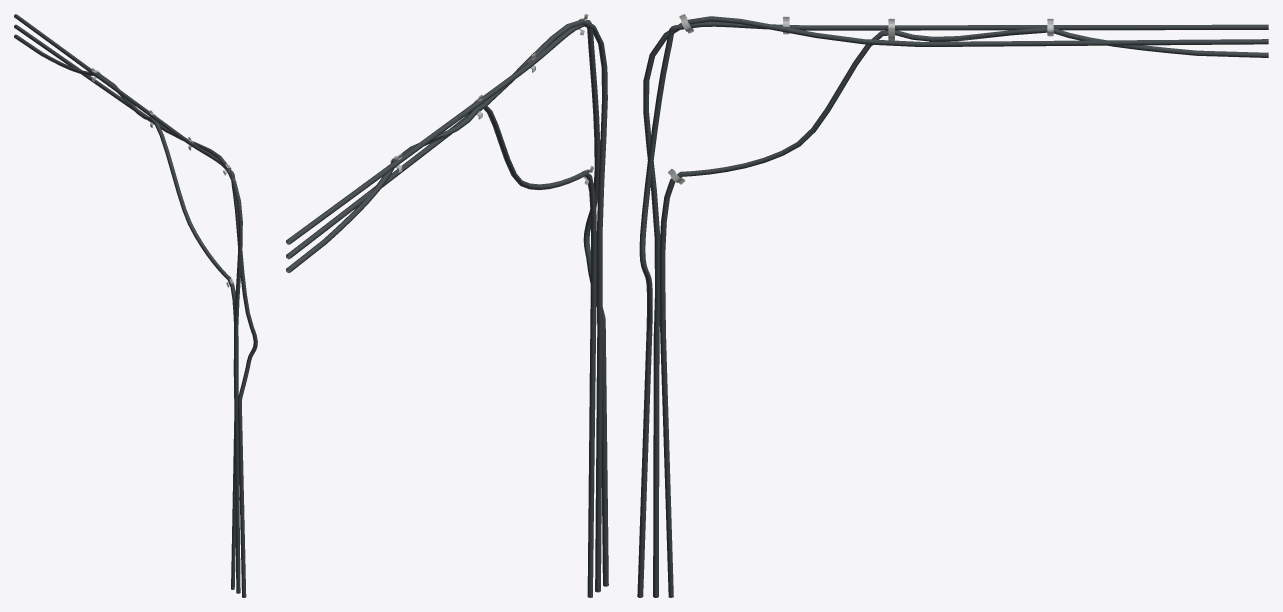
The model's file is SM_WallWire_10.FBX.
3 renders of one model, left to right at view 1: azimuth 30°, elevation 25°; view 2: azimuth 150°, elevation 25°; view 3: azimuth 270°, elevation 25°, orthographic. The views are drawn at different scales.
Parts seen in each view (by area): view 1: SM_WallWire_10_LOD0; view 2: SM_WallWire_10_LOD0; view 3: SM_WallWire_10_LOD0.
Part boxes in pixels (x1=…): SM_WallWire_10_LOD0: x1=14, y1=14, x2=257, y2=597; SM_WallWire_10_LOD0: x1=286, y1=14, x2=608, y2=597; SM_WallWire_10_LOD0: x1=637, y1=14, x2=1268, y2=597.
Size of the model in its own units: 13.29 by 299 by 304.
